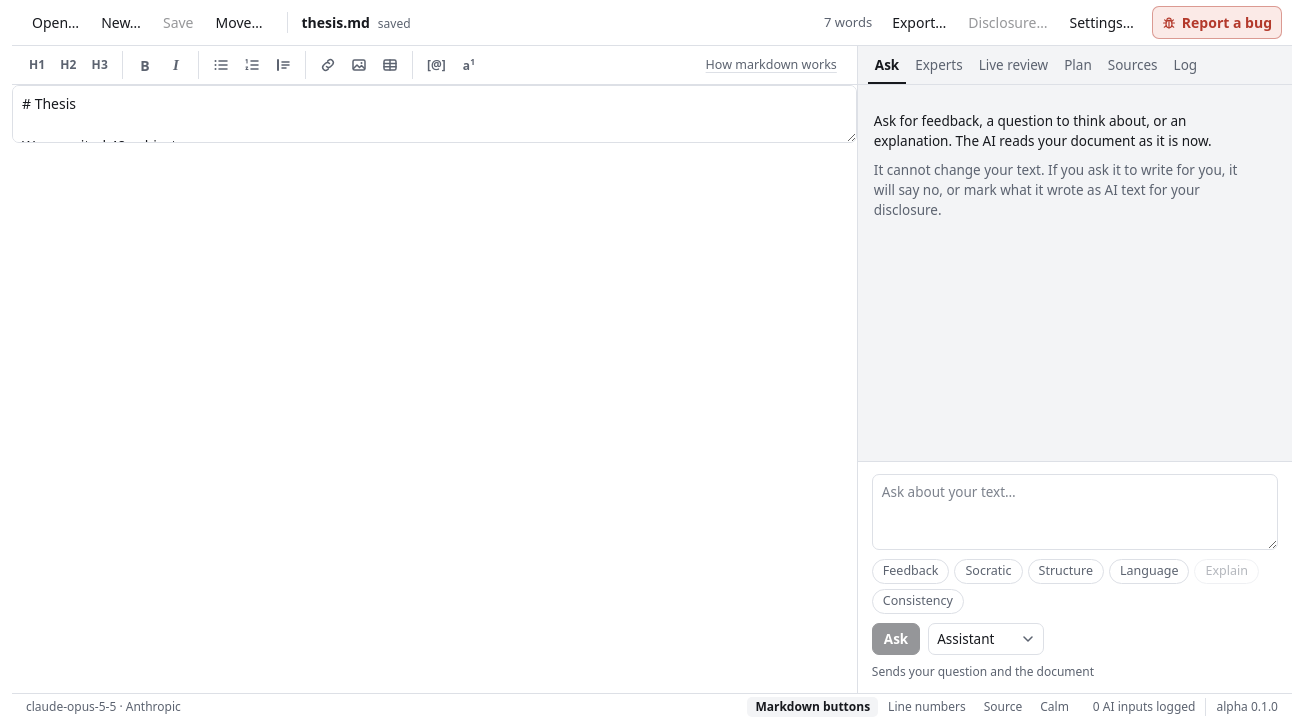
Test: a review that comes too soon is asked for again later, and a failed one is said plainly
The image size is (1292, 720).
Expected: the text "thesis.md" is shown, [302,13,370,32]
Click the tab "Live review".
click(1013, 65)  # box [972,46,1055,84]
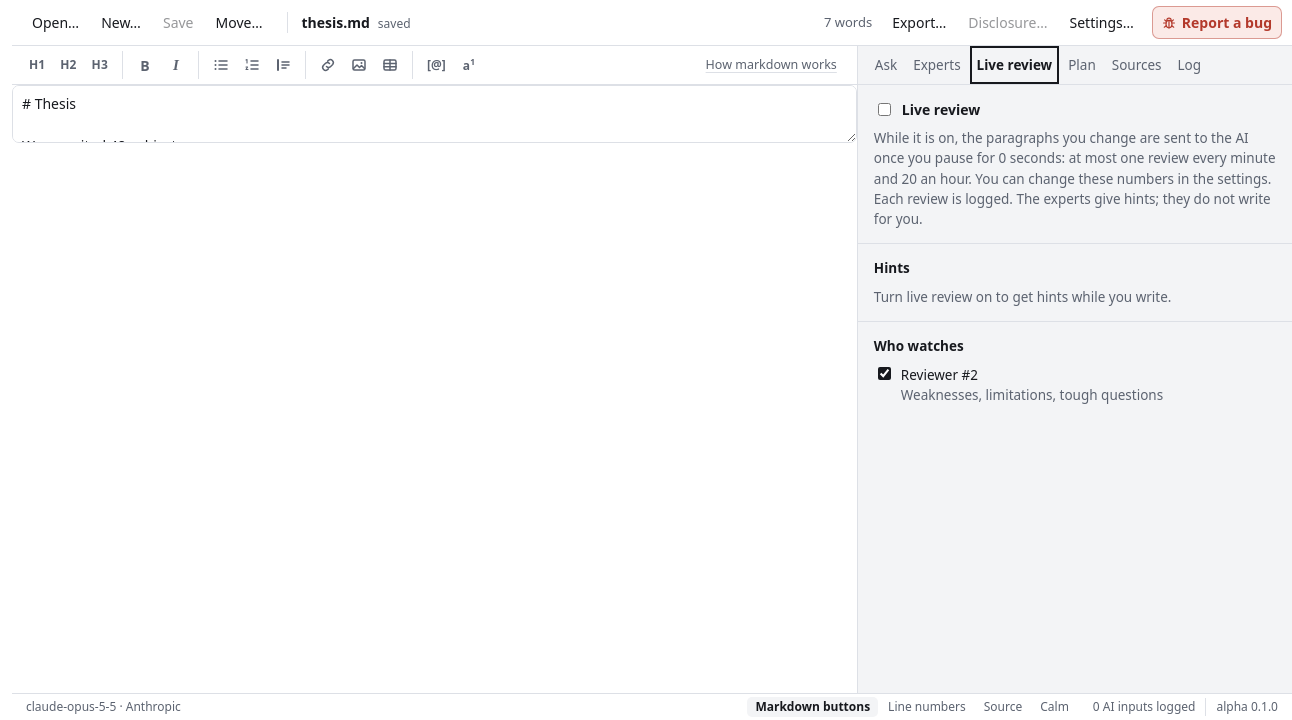
Click the checkbox labelled "Live review".
click(884, 110)  # box [878,103,891,116]
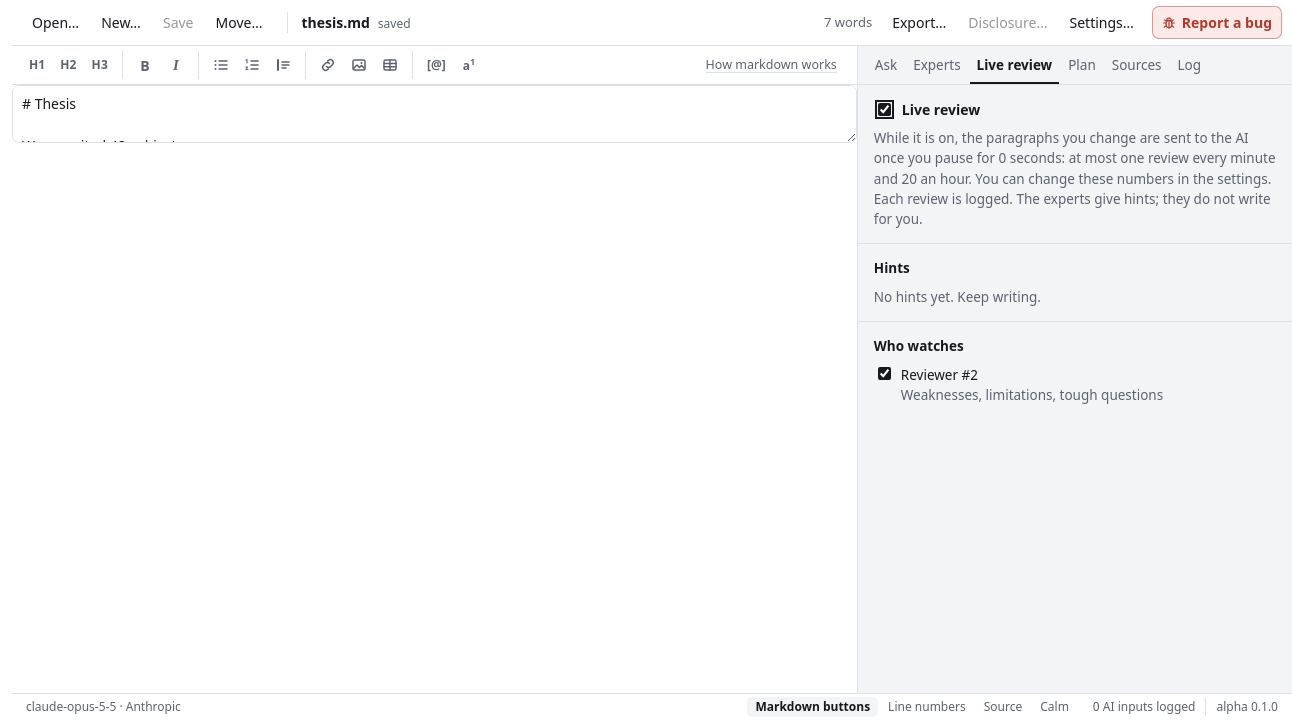
Type "More words here." into the text box named "Document".
click(434, 114); type("More words here.")  # box [12,85,857,143]
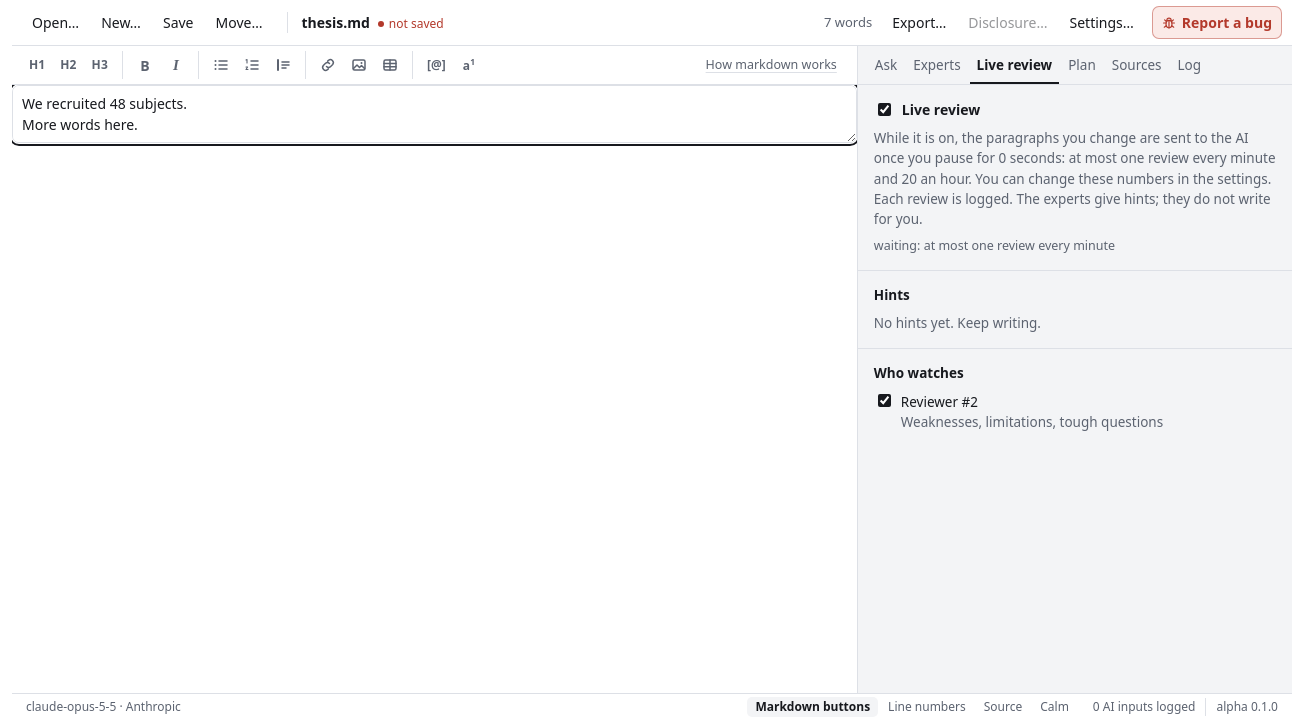
Now the message reads "waiting: at most one review every minute", box [874,237,1115,254]
